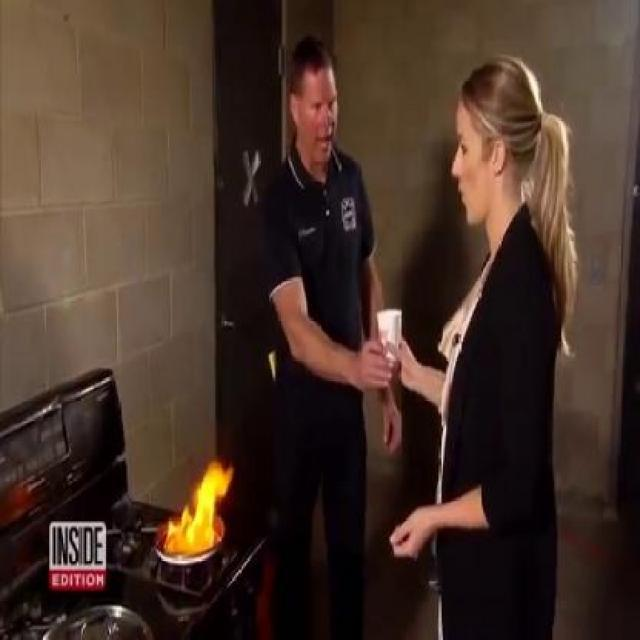fire: (146, 432, 262, 571)
